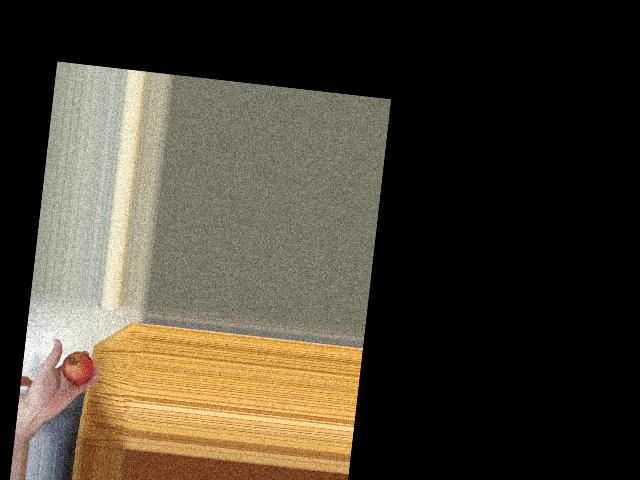apple: (59, 347, 96, 391)
